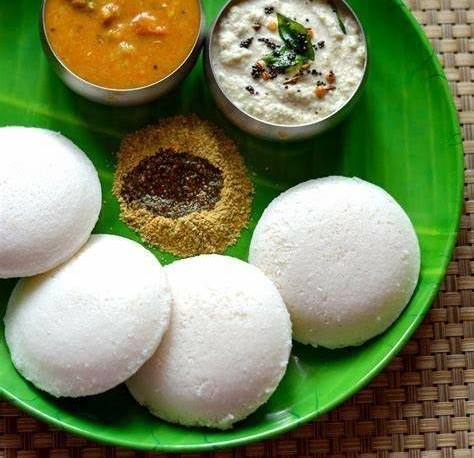CoconutChutney: (213, 0, 366, 127)
Idli: (249, 176, 420, 343), (3, 233, 172, 396), (133, 254, 287, 429), (0, 128, 99, 279)
